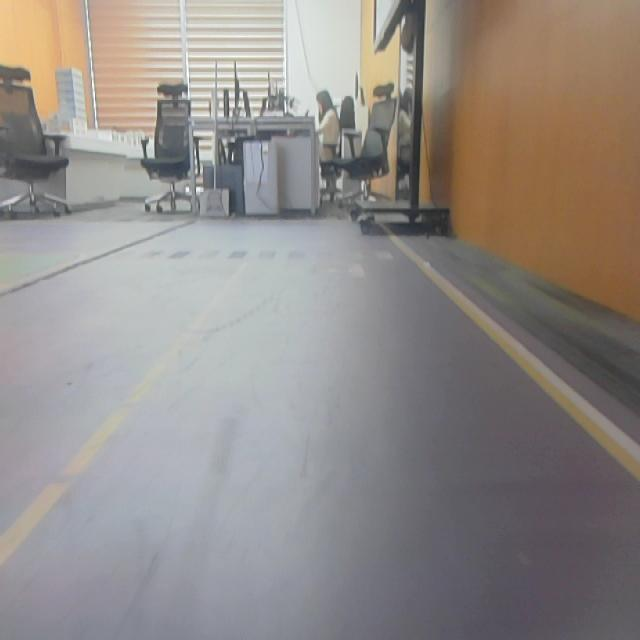left_lane: (0, 257, 253, 569)
right_lane: (387, 232, 640, 483)
